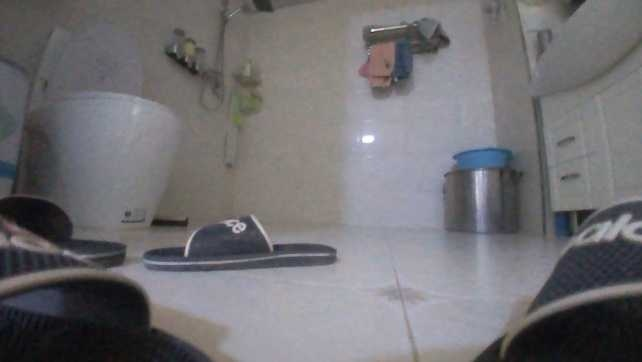slipper: (141, 213, 338, 270)
toilet: (20, 19, 183, 230)
